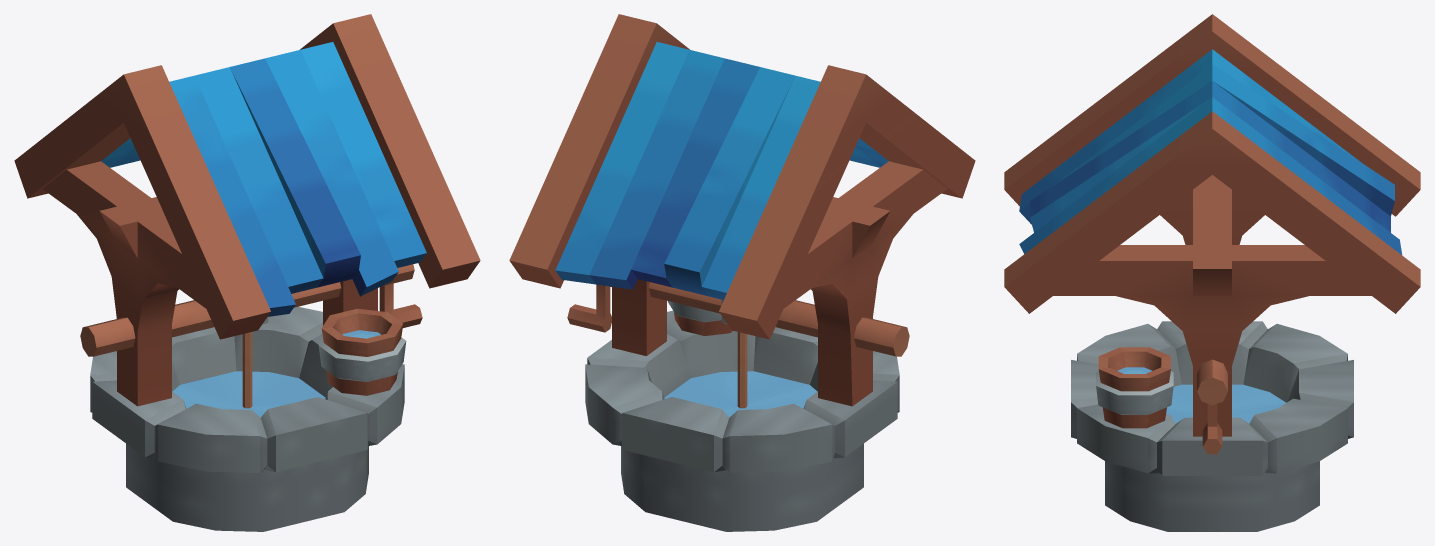
The model's file is well_blue.glb.
The picture shows the model from 3 angles, left to right: view 1: azimuth 30°, elevation 25°; view 2: azimuth 150°, elevation 25°; view 3: azimuth 270°, elevation 25°; orthographic projection. The views are drawn at different scales.
Visible parts, largest first — view 1: building_well_blue; view 2: building_well_blue; view 3: building_well_blue.
Boxes of the visible parts, x1,y1,x2,y2 form: building_well_blue: (14, 14, 480, 531); building_well_blue: (509, 14, 975, 531); building_well_blue: (1004, 14, 1420, 531).
Bounding box in the file's own units: 0.6518 × 0.826 × 0.7507.
1 material, 1 textured.
